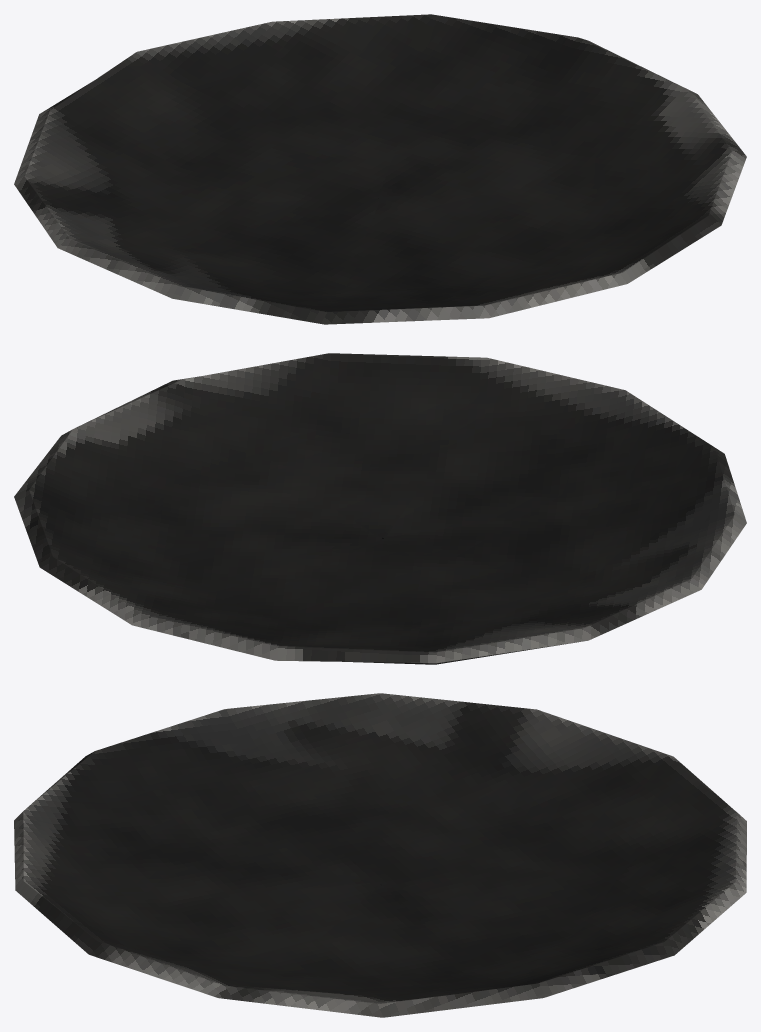
Rendered from plate.glb.
The picture shows the model from 3 angles, top to bottom: view 1: azimuth 30°, elevation 25°; view 2: azimuth 150°, elevation 25°; view 3: azimuth 270°, elevation 25°; orthographic projection. The views are drawn at different scales.
Visible parts, largest first — view 1: plate; view 2: plate; view 3: plate.
Part boxes in pixels (x1,y1,x2,y2): plate: (14, 14, 746, 324); plate: (14, 353, 746, 664); plate: (14, 693, 746, 1017).
Size of the model in its own units: 0.2413 by 0.0205 by 0.2334.
Materials: 1 (1 with a texture image).
